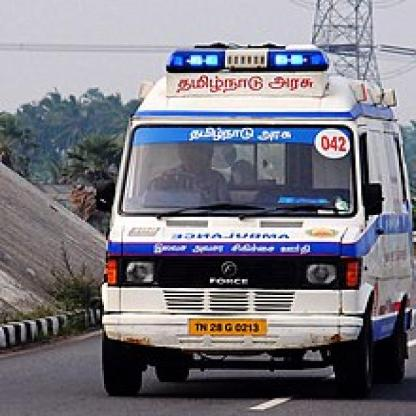priority: (105, 43, 413, 390)
